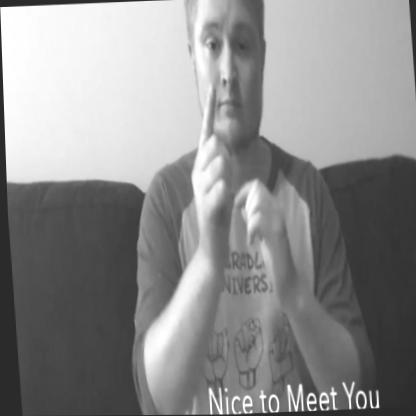NiceToMeetYou: (178, 72, 301, 313)
